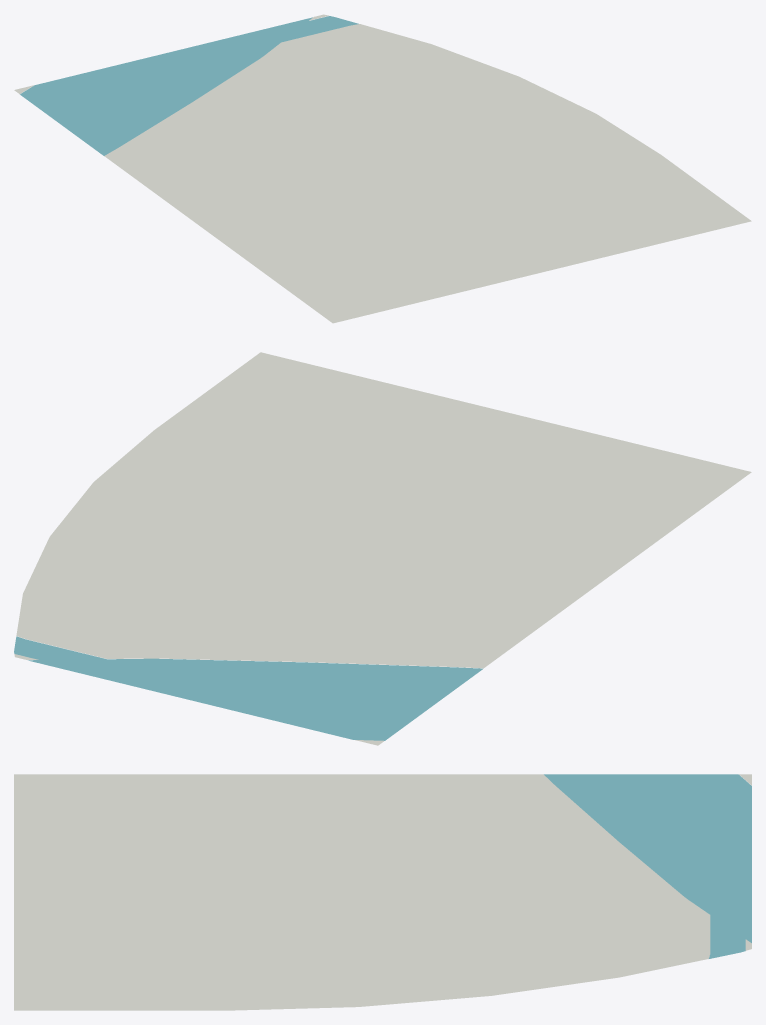
3 views of the same model, one above another, from view 1: azimuth 30°, elevation 25°; view 2: azimuth 150°, elevation 25°; view 3: azimuth 270°, elevation 25° (orthographic). The views are drawn at different scales.
Parts seen in each view (by area): view 1: city; view 2: city; view 3: city.
Part boxes in pixels (x1=…): city: x1=14, y1=14, x2=751, y2=323; city: x1=14, y1=352, x2=751, y2=745; city: x1=14, y1=774, x2=751, y2=1010.
Size of the model in its own units: 379 by 0.18 by 500.
